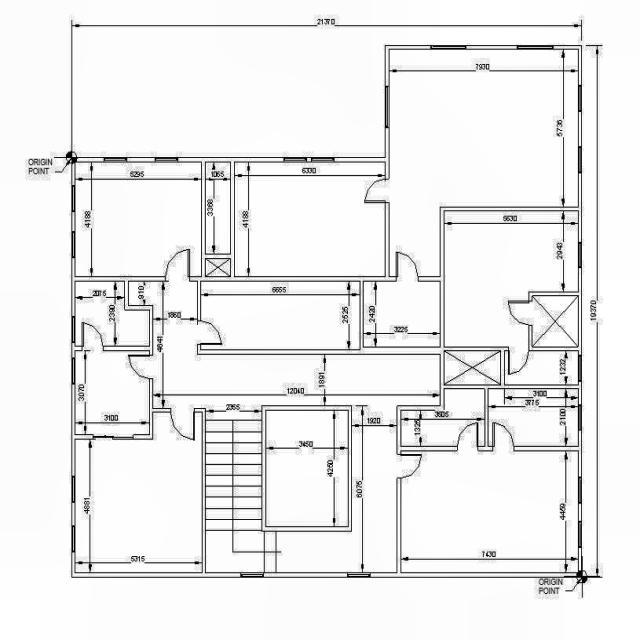Column: (72, 157, 78, 163)
Door: (165, 248, 190, 282), (170, 408, 195, 442), (362, 178, 390, 204), (396, 250, 418, 282), (492, 422, 515, 452), (128, 354, 154, 380), (508, 346, 530, 376), (456, 422, 478, 452), (82, 322, 104, 352), (197, 320, 223, 345), (508, 300, 532, 326), (397, 454, 422, 478)
Sliding Door: (92, 434, 134, 440)
Staircase: (206, 403, 397, 572)
Window: (384, 85, 390, 128), (516, 45, 554, 50), (431, 45, 466, 50), (240, 572, 264, 578), (284, 157, 308, 163), (104, 157, 128, 163), (154, 157, 178, 163), (348, 572, 370, 578), (310, 157, 334, 162), (72, 230, 76, 258), (578, 476, 582, 504), (578, 146, 582, 174), (72, 185, 76, 212), (72, 316, 76, 343), (72, 476, 76, 503), (578, 521, 582, 548), (578, 404, 582, 431), (578, 355, 582, 382), (578, 85, 582, 112), (72, 358, 76, 384), (72, 526, 76, 552), (578, 242, 582, 268)
